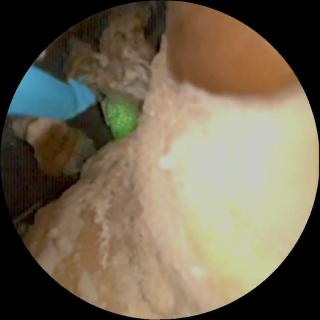fiber: (11, 68, 95, 117)
laser: (108, 99, 138, 137)
stone: (23, 6, 312, 314), (10, 118, 98, 177)
